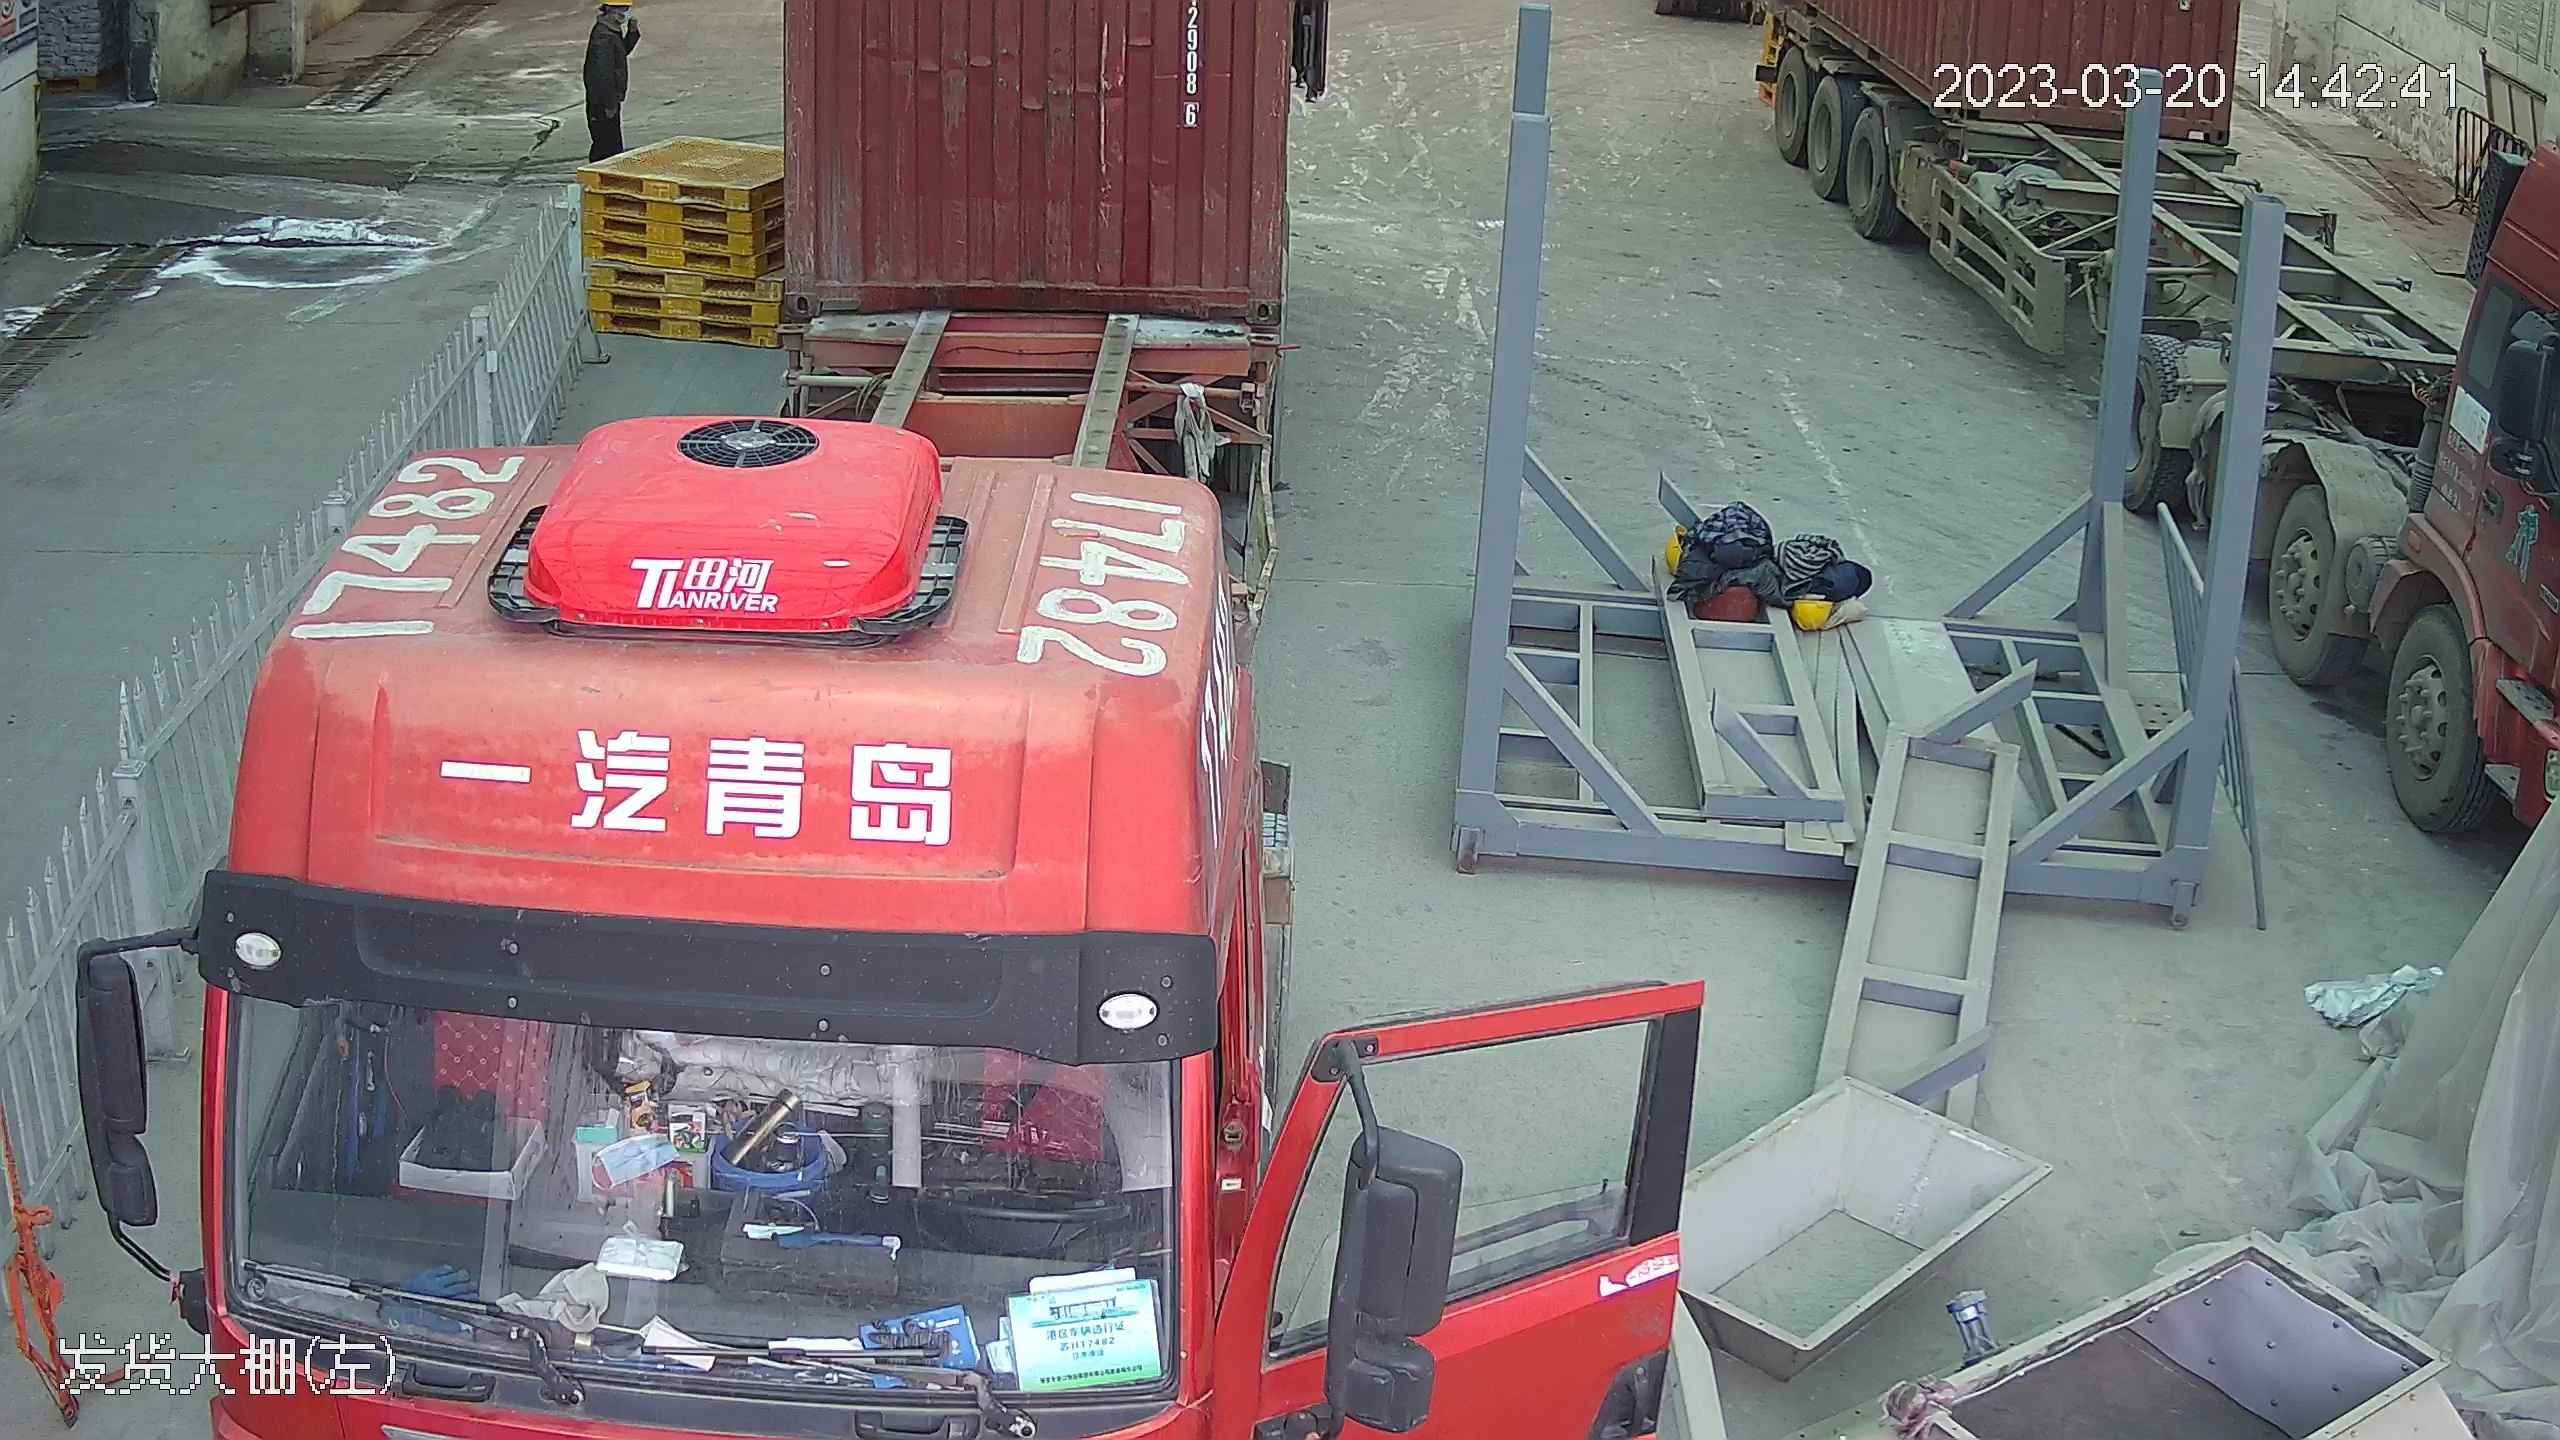people: (575, 0, 652, 161)
truck: (57, 0, 1306, 1440)
